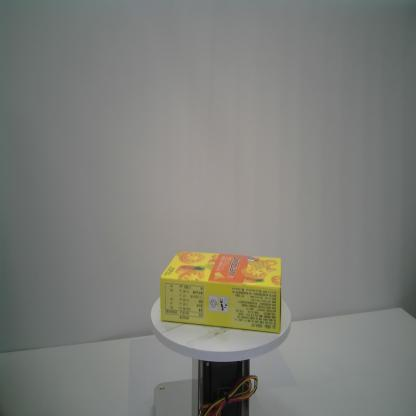Dessert: (159, 250, 283, 336)
